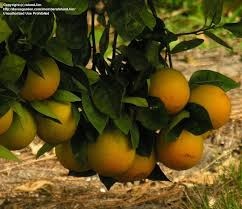orange: (87, 126, 136, 173), (14, 55, 62, 101), (155, 126, 205, 170), (143, 66, 190, 112), (188, 81, 232, 129), (34, 97, 79, 142), (1, 97, 35, 151)
